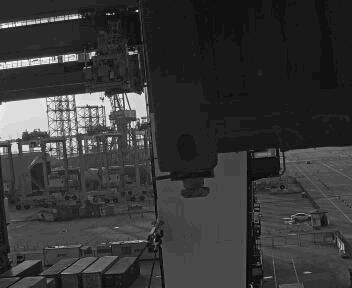twist_lock_1: (154, 169, 209, 203)
